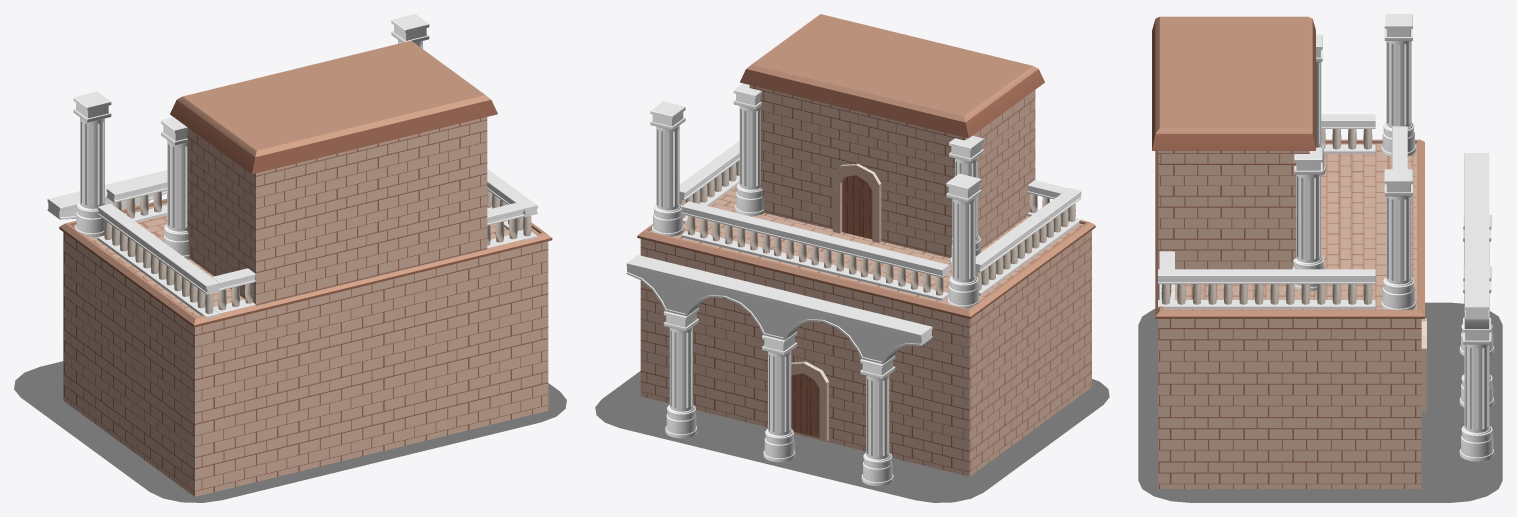
File: Icon_castle01.fbx
3 views of the same model, side by side, from view 1: azimuth 30°, elevation 25°; view 2: azimuth 150°, elevation 25°; view 3: azimuth 270°, elevation 25° (orthographic). The views are drawn at different scales.
Parts seen in each view (by area): view 1: Icon_castle01; view 2: Icon_castle01; view 3: Icon_castle01.
Part boxes in pixels (<box>): Icon_castle01: <box>14,14,566,502</box>; Icon_castle01: <box>595,14,1109,502</box>; Icon_castle01: <box>1138,14,1502,502</box>.
Bounding box in the file's own units: 210 × 162 × 162.
Materials: 4 (2 with a texture image).
